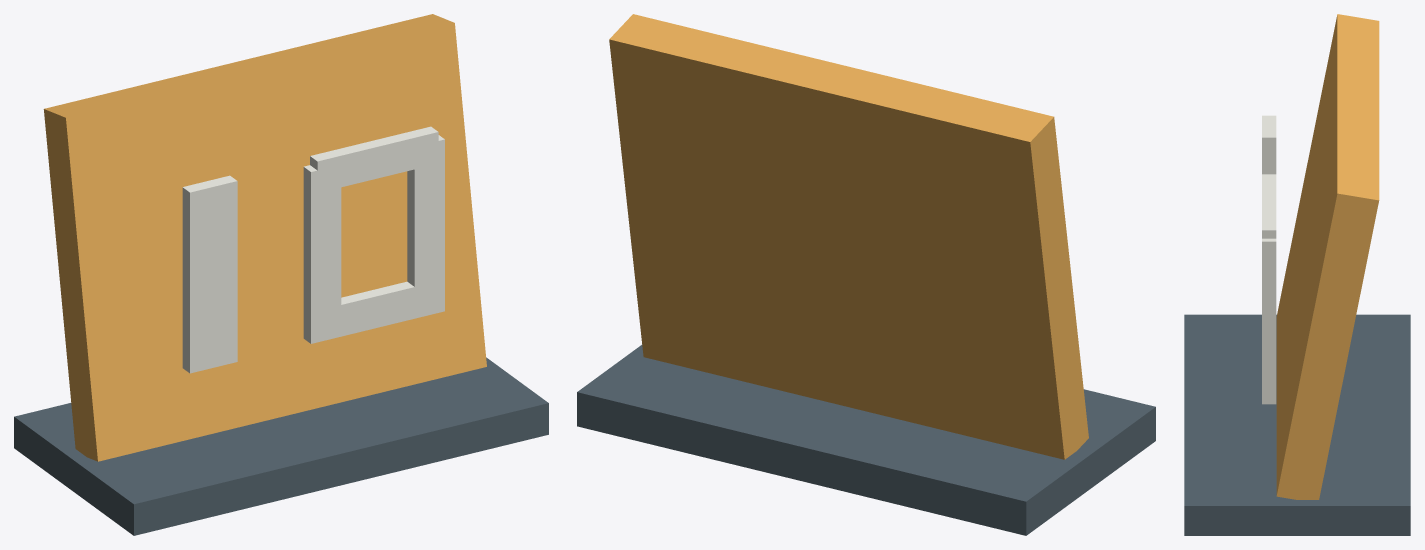
Rendered from american-football-stadium-kit-yard-marker-60384ec9__22325.glb.
3 renders of one model, left to right at view 1: azimuth 30°, elevation 25°; view 2: azimuth 150°, elevation 25°; view 3: azimuth 270°, elevation 25°, orthographic. The views are drawn at different scales.
Parts seen in each view (by area): view 1: yard-marker; view 2: yard-marker; view 3: yard-marker.
Part boxes in pixels (x1,y1,x2,y2): yard-marker: [14, 14, 548, 535]; yard-marker: [577, 14, 1155, 535]; yard-marker: [1184, 14, 1410, 535].
Size of the model in its own units: 0.48 by 0.3932 by 0.24.
